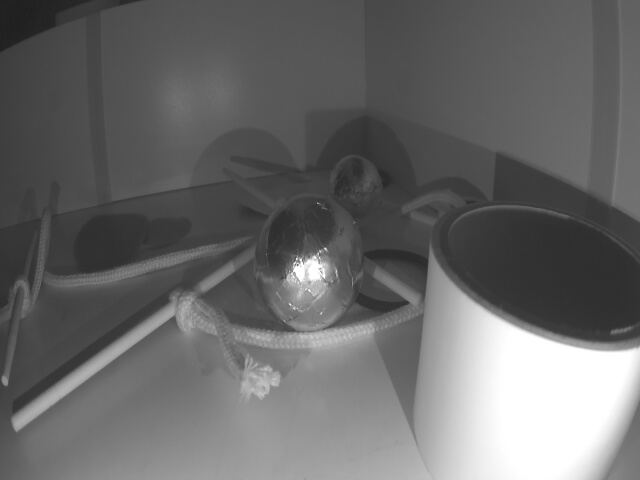Live: (252, 193, 362, 329), (327, 154, 382, 212)
